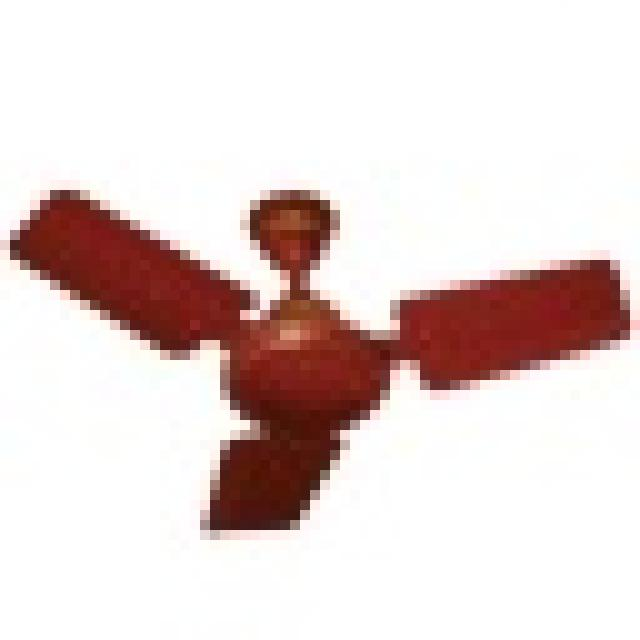Bulb: (8, 154, 629, 571)
